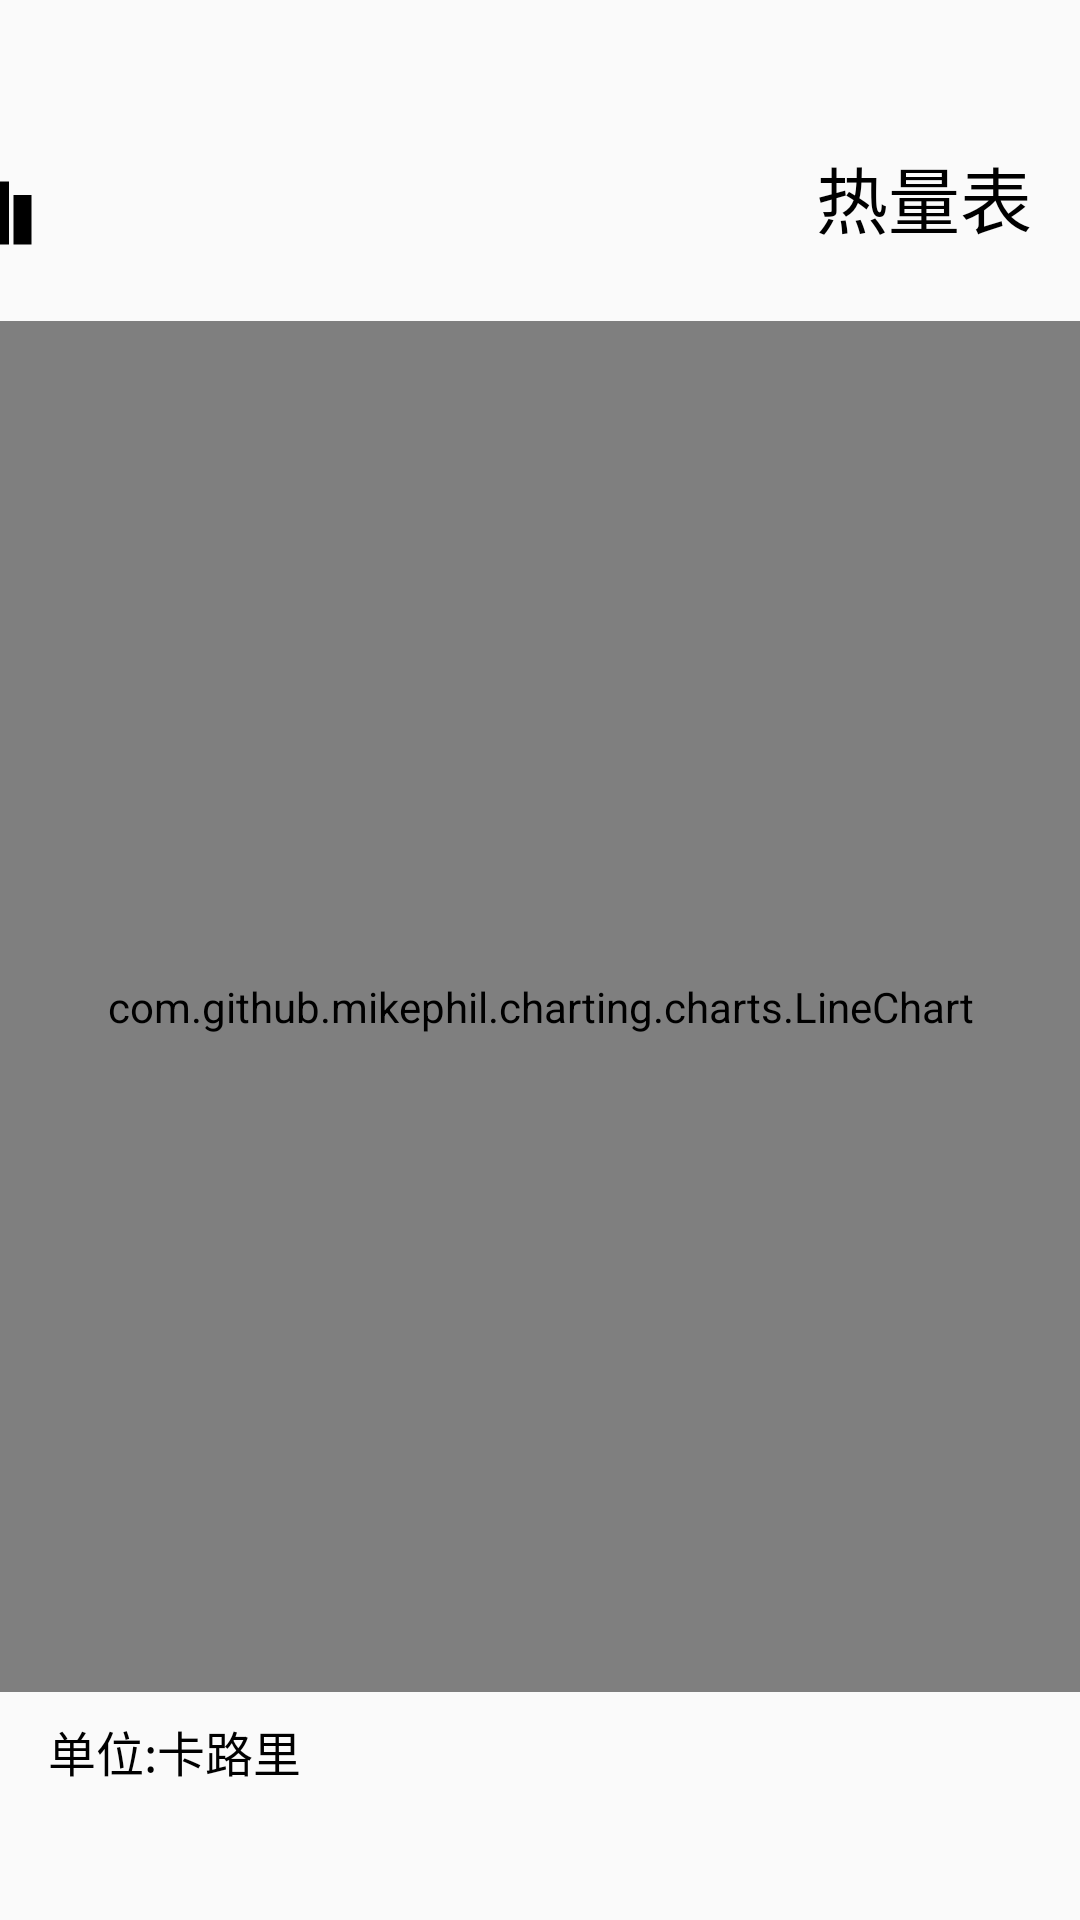

Locate icon controls on the screen. Image size 1080x1920, boxes as bbox=(x1, y1, x2, y2).
chart half right: bbox=(0, 181, 32, 245)
